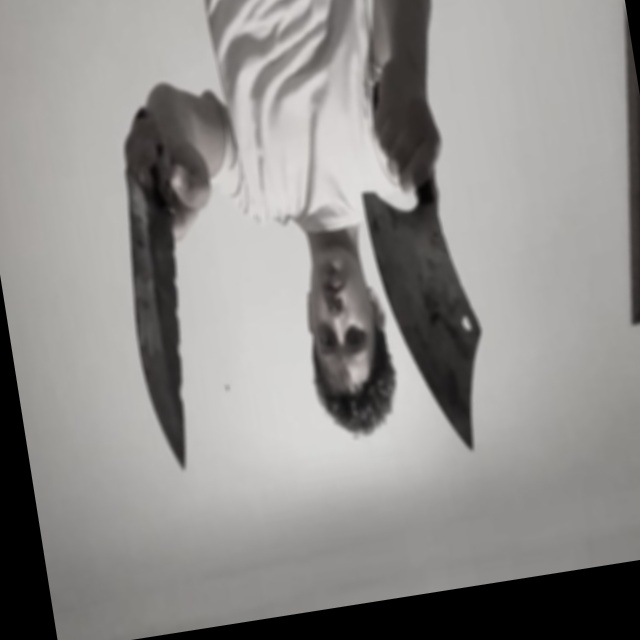Sharp-Object: (362, 179, 503, 462), (108, 164, 214, 473)
